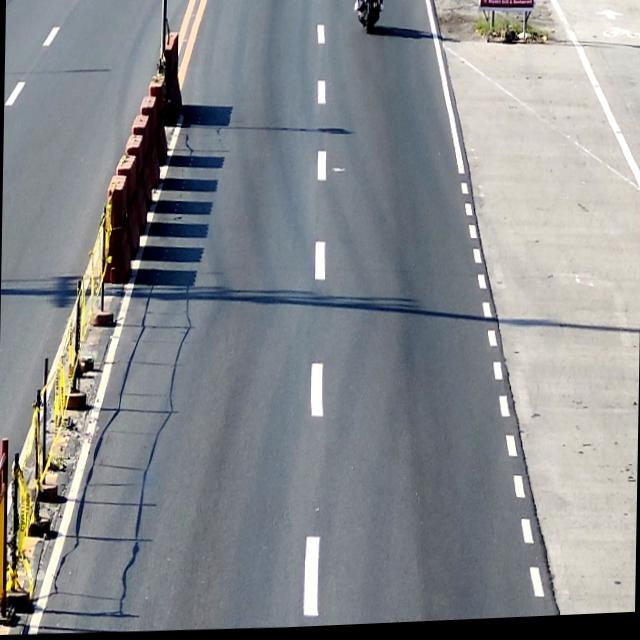Motorcycle: (358, 0, 380, 37)
